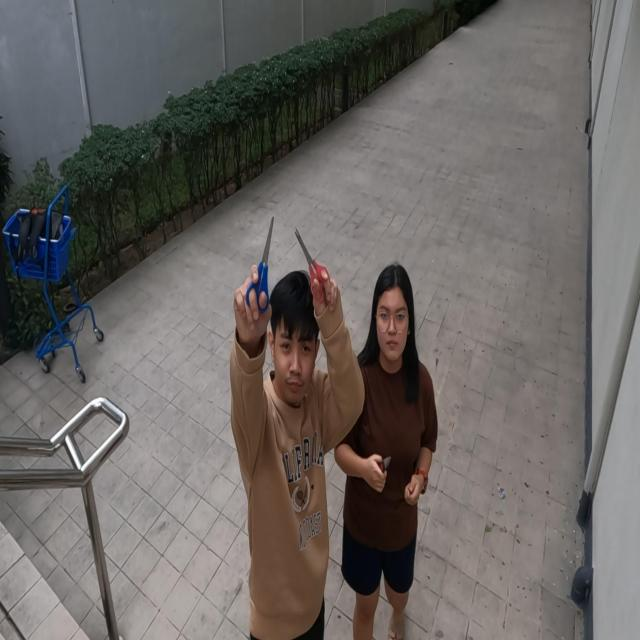scissor: (245, 212, 276, 314), (293, 223, 331, 305)
